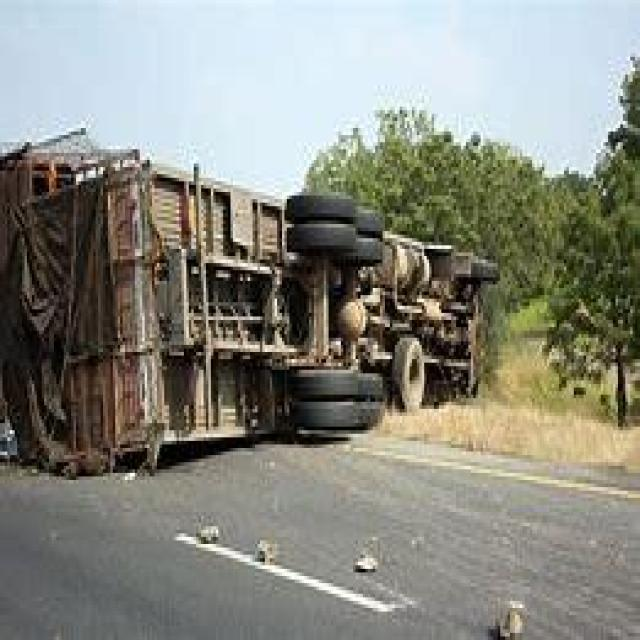Nguy hiểm: (0, 117, 490, 487)
